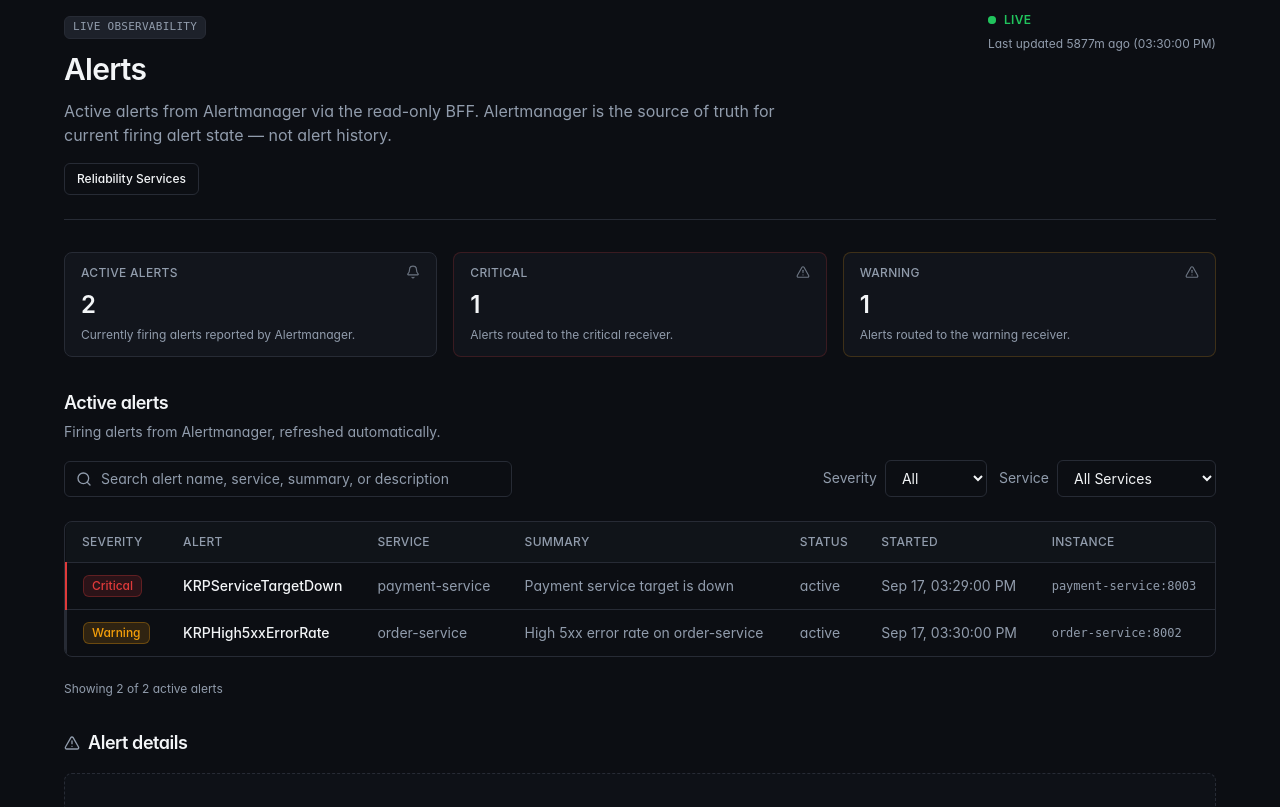
it: AlertsPage › filters alerts locally by severity
Check: the text "KRPHigh5xxErrorRate" is shown, box [167,609,361,656]
Select "Critical" in the dropdown labelled "Severity" at (936,478), box [885,460,987,497]
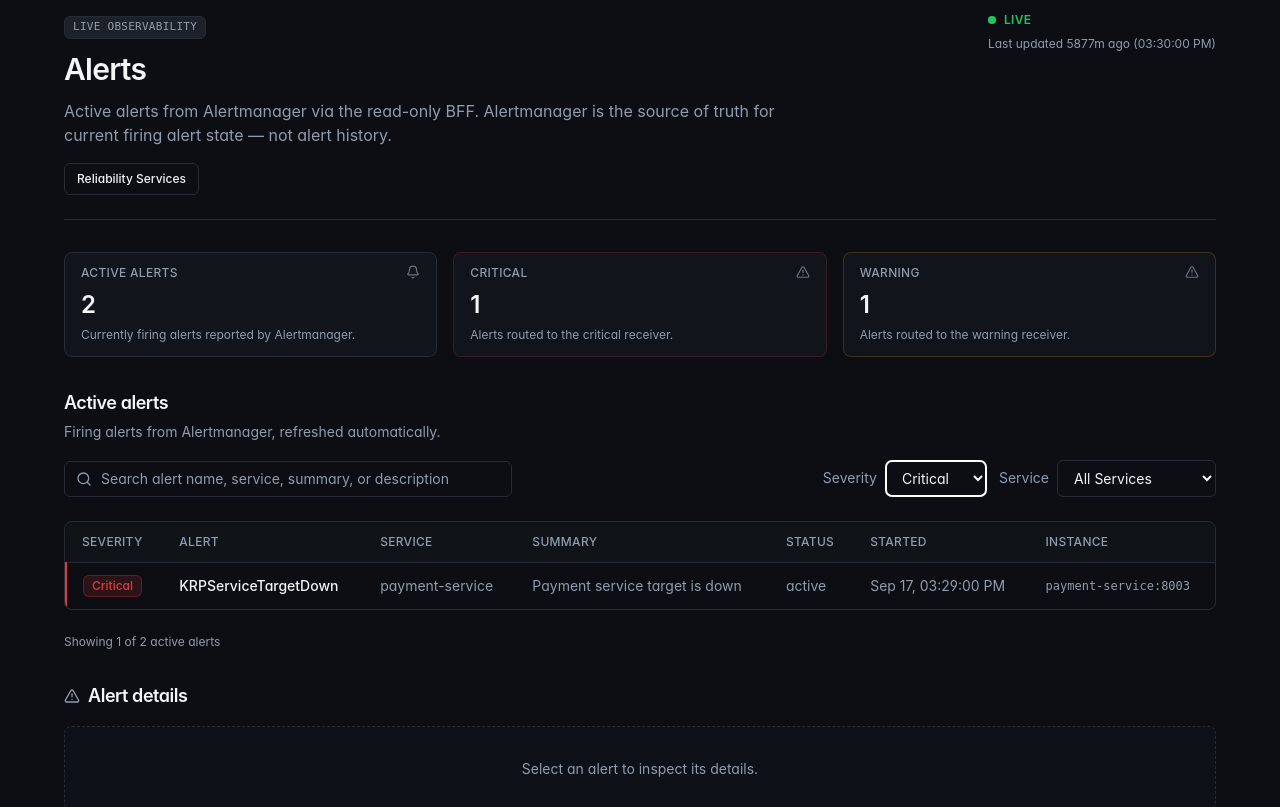
Check: the text "KRPServiceTargetDown" is shown, box [163,562,364,609]
Check: the text "KRPHigh5xxErrorRate" is gone
